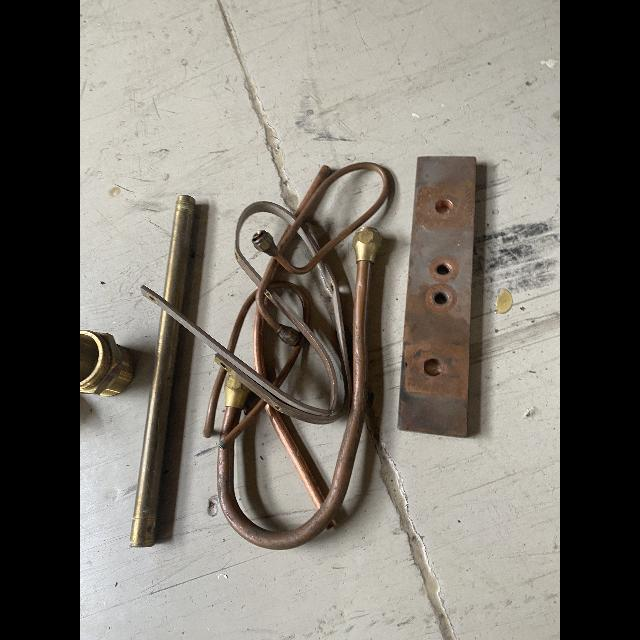Brass: (130, 310, 180, 547), (80, 330, 135, 397), (164, 195, 195, 313), (353, 227, 382, 263), (225, 373, 250, 409), (252, 230, 278, 256), (276, 324, 302, 346)
Copper: (217, 261, 372, 550), (141, 285, 337, 416), (215, 257, 353, 425), (398, 156, 476, 437), (273, 163, 389, 274), (265, 403, 325, 511), (235, 201, 297, 287), (218, 399, 267, 450), (295, 165, 332, 218), (227, 289, 257, 354), (272, 331, 305, 388), (268, 281, 310, 325), (204, 367, 226, 438), (253, 305, 267, 380), (218, 407, 242, 442), (297, 223, 320, 256), (277, 225, 292, 247), (326, 518, 336, 530), (264, 295, 268, 309)
